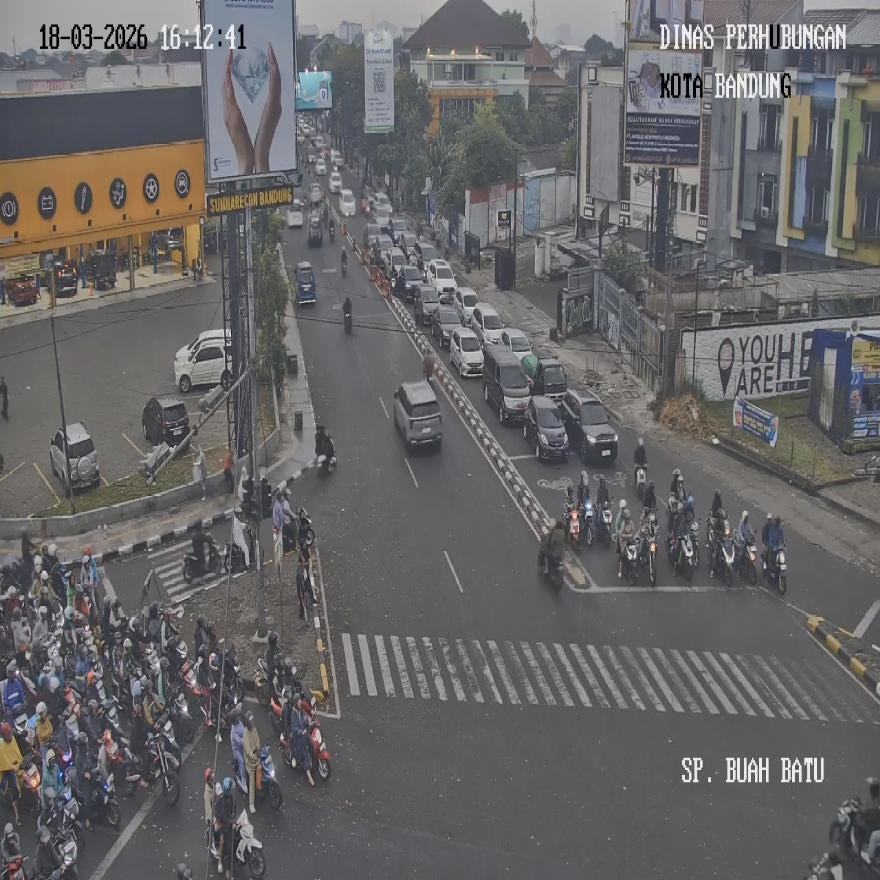Bis mini: (222, 42, 282, 174)
Mobil: (174, 328, 232, 392), (393, 378, 442, 448)
Motor: (828, 796, 880, 875), (209, 808, 265, 880), (123, 732, 179, 804), (36, 785, 84, 864), (282, 714, 331, 781), (81, 761, 120, 826), (205, 671, 243, 733), (180, 658, 212, 727), (39, 825, 79, 880), (224, 511, 257, 574), (254, 743, 283, 809), (183, 534, 221, 584), (538, 521, 564, 589), (280, 507, 313, 556), (709, 526, 735, 586), (18, 752, 42, 814), (254, 653, 280, 710), (297, 559, 318, 628), (674, 526, 698, 582), (803, 852, 844, 880), (764, 544, 786, 594), (618, 529, 638, 583), (314, 427, 336, 474), (736, 537, 758, 584), (640, 528, 658, 584), (596, 499, 613, 548), (564, 502, 581, 550), (3, 852, 32, 880), (582, 498, 596, 546), (634, 463, 648, 504), (340, 248, 346, 276)
